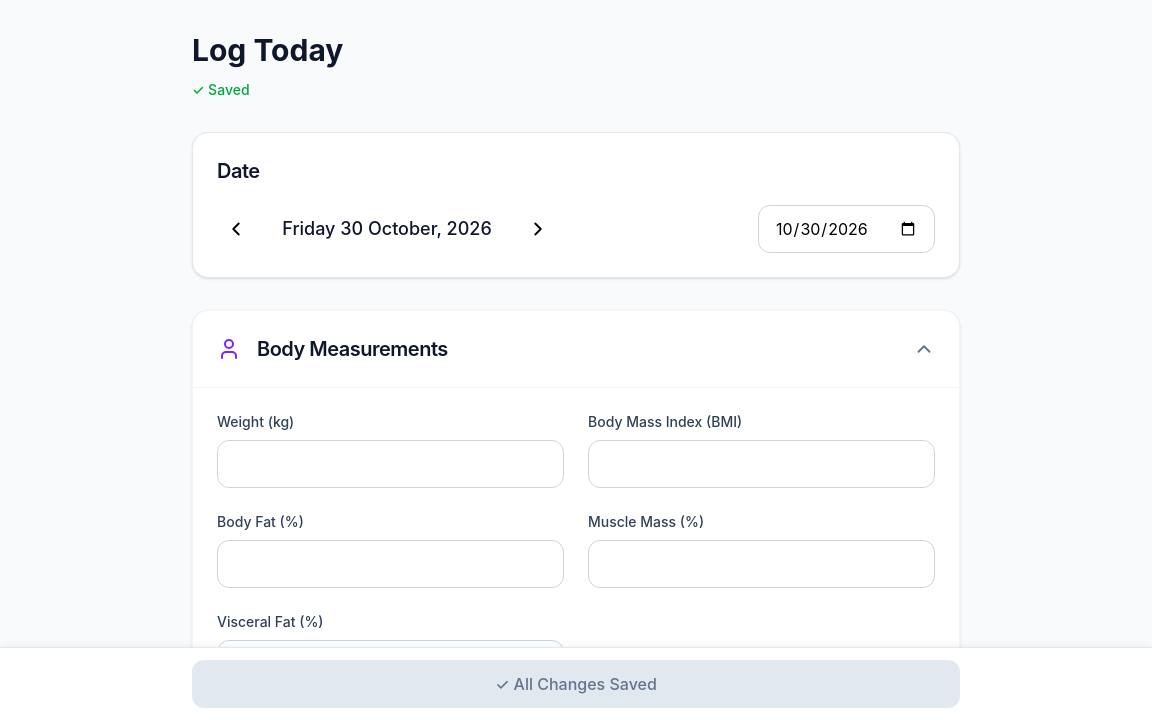
Test: LogBodyMeasurements › saves successfully
Type "18.5" into the number field labelled "Body Fat (%)" at coordinates (390, 564), box [217,540,564,588]
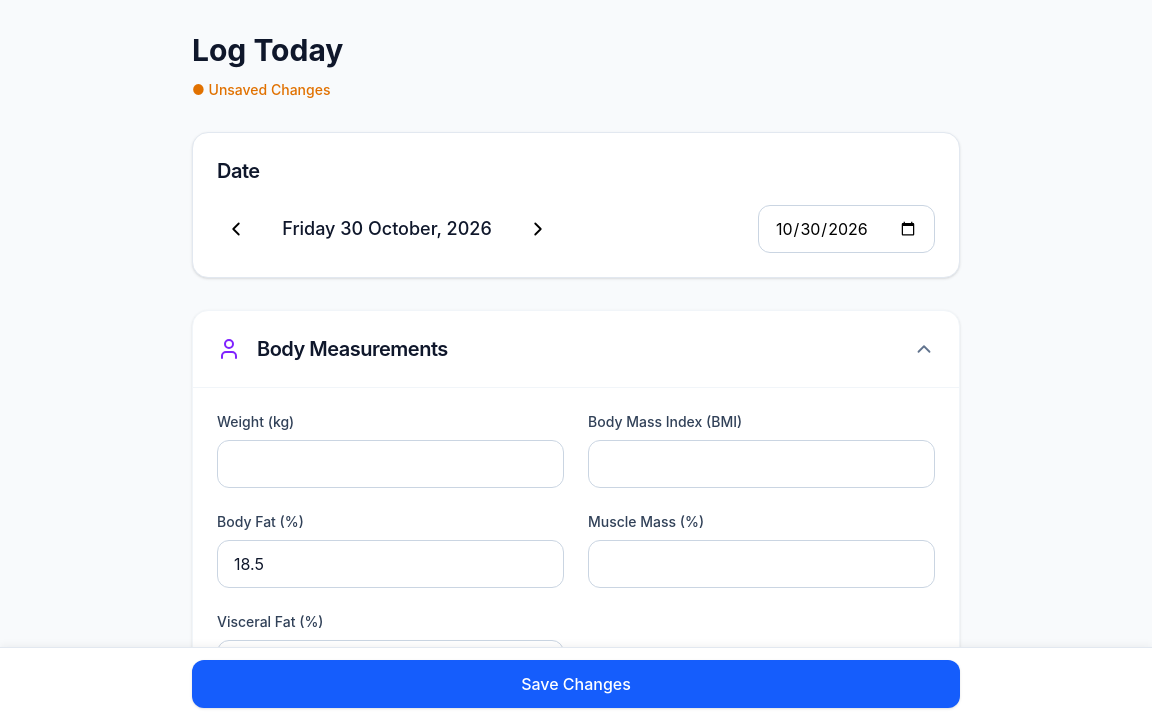
Click the button "Save Changes" at coordinates (576, 684), box [192,660,960,708]
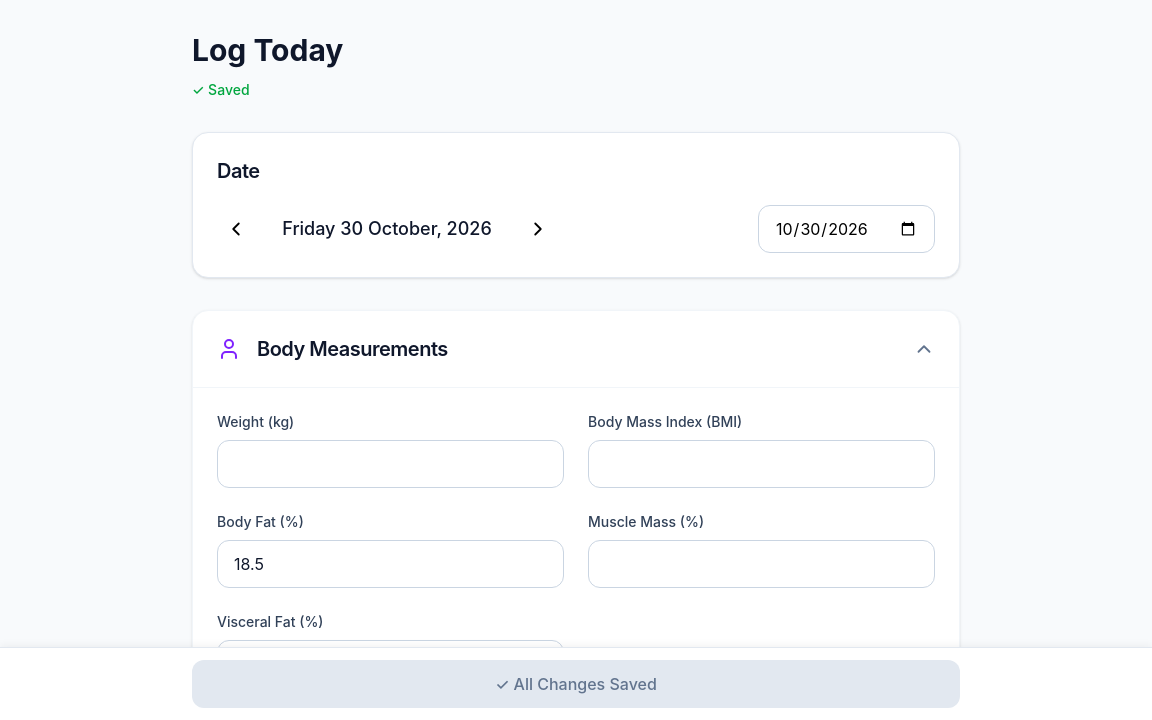
Now the text "✓ Saved" is shown, box [192,80,250,100]
